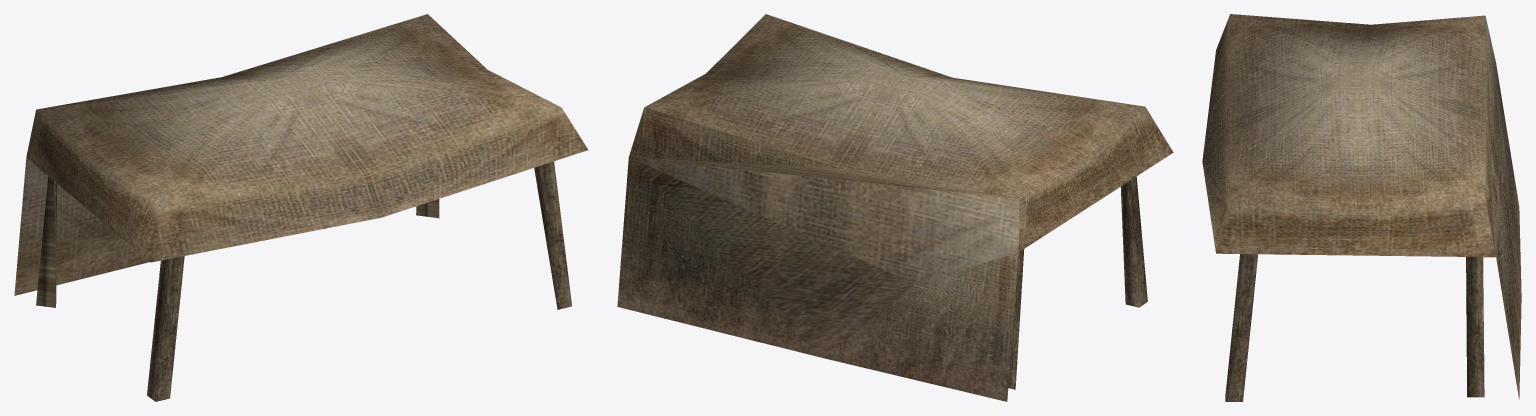
Rendered from desert_tent01_lod_01.fbx.
3 renders of one model, left to right at view 1: azimuth 30°, elevation 25°; view 2: azimuth 150°, elevation 25°; view 3: azimuth 270°, elevation 25°, orthographic. The views are drawn at different scales.
Parts seen in each view (by area): view 1: desert_tent01; view 2: desert_tent01; view 3: desert_tent01.
Boxes of the visible parts, left/top/right/bottom form: desert_tent01: left=14, top=14, right=588, bottom=401; desert_tent01: left=617, top=14, right=1173, bottom=401; desert_tent01: left=1202, top=14, right=1521, bottom=401.
Bounding box in the file's own units: 6.9 × 3.47 × 4.45.
